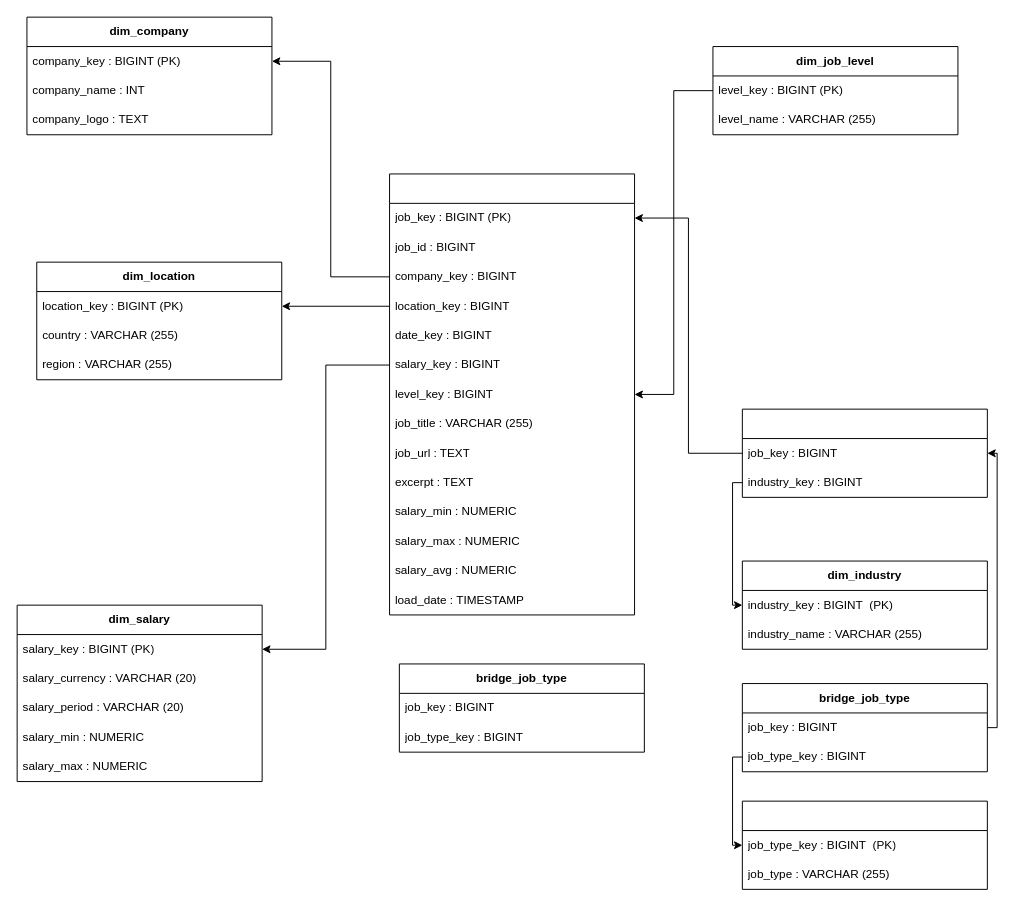
The diagram is 1022 pixels wide and 907 high, and some of its shapes have lost their labels. Each missing label, with the box of its shape:
bridge_job_industry: (741, 408, 987, 497)
dim_job_type: (741, 800, 987, 889)
fact_remote_job: (389, 173, 635, 615)
